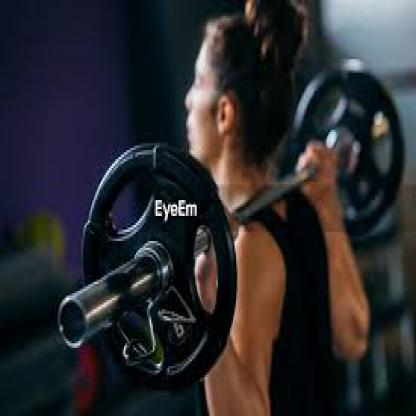Barbell: (71, 135, 242, 403)
